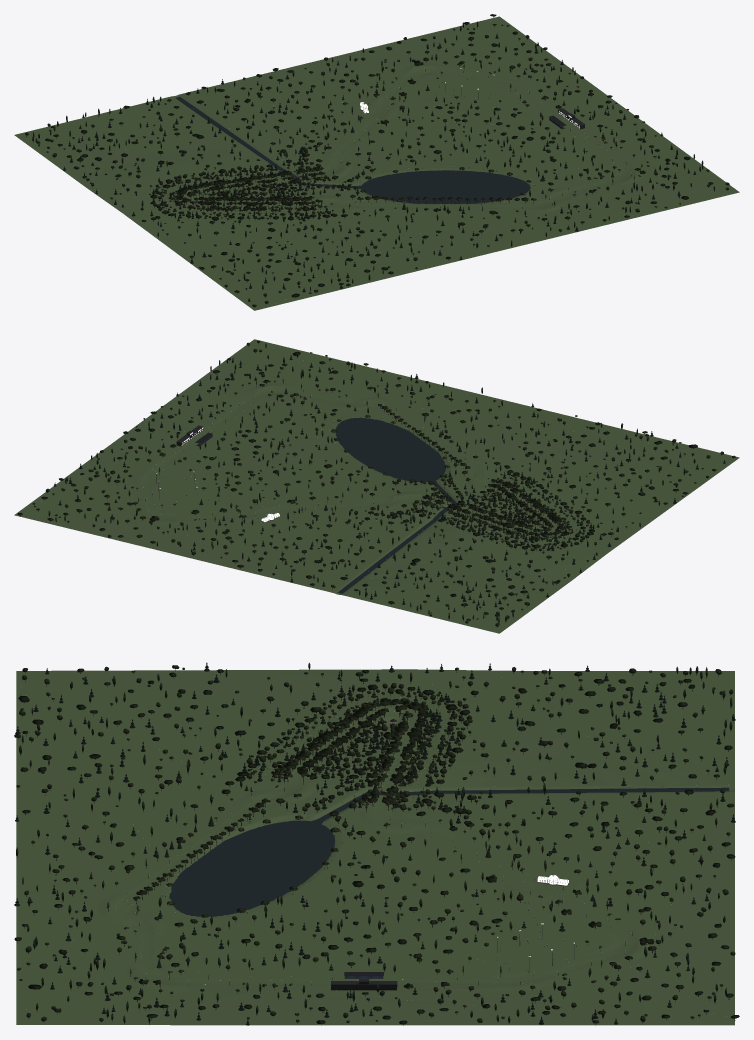
File: park.glb
3 renders of one model, top to bottom at view 1: azimuth 30°, elevation 25°; view 2: azimuth 150°, elevation 25°; view 3: azimuth 270°, elevation 25°, orthographic. The views are drawn at different scales.
Visible parts, largest first — view 1: ground_-2_-2, ground_-2_3, ground_-5_2, ground_-4_2, ground_-2_0, water, ground_-1_1, ground_0_1, ground_-3_-1, ground_-5_-2, ground_-3_2, ground_0_-1 (+38 smaller); view 2: ground_-2_-2, ground_-2_3, ground_-5_2, ground_-4_2, ground_-2_0, water, ground_-1_1, ground_0_1, ground_-3_-1, ground_-5_-2, ground_-3_2, ground_0_-1 (+38 smaller); view 3: ground_-2_-2, ground_-2_3, ground_-5_2, ground_-4_2, ground_-2_0, water, ground_-1_1, ground_0_1, ground_-3_-1, ground_-5_-2, ground_-3_2, ground_-3_0 (+56 smaller).
Part boxes in pixels (bbox=[...]): ground_-2_-2: bbox=[182, 16, 498, 102]; ground_-2_3: bbox=[258, 192, 737, 309]; ground_-5_2: bbox=[212, 211, 349, 310]; ground_-4_2: bbox=[255, 208, 470, 310]; ground_-2_0: bbox=[361, 99, 493, 168]; water: bbox=[175, 97, 530, 203]; ground_-1_1: bbox=[490, 95, 622, 172]; ground_0_1: bbox=[500, 17, 738, 191]; ground_-3_-1: bbox=[198, 100, 358, 146]; ground_-5_-2: bbox=[15, 96, 176, 152]; ground_-3_2: bbox=[256, 203, 531, 310]; ground_0_-1: bbox=[450, 16, 585, 120]; ground_-2_-2: bbox=[15, 515, 332, 592]; ground_-2_3: bbox=[255, 339, 737, 457]; ground_-5_2: bbox=[493, 457, 739, 520]; ground_-4_2: bbox=[423, 428, 737, 470]; ground_-2_0: bbox=[185, 452, 363, 510]; water: bbox=[335, 417, 456, 593]; ground_-1_1: bbox=[161, 397, 333, 476]; ground_0_1: bbox=[15, 340, 253, 514]; ground_-3_-1: bbox=[266, 510, 400, 583]; ground_-5_-2: bbox=[343, 574, 499, 633]; ground_-3_2: bbox=[400, 405, 738, 464]; ground_0_-1: bbox=[14, 433, 182, 515]; ground_-2_-2: bbox=[585, 792, 734, 1024]; ground_-2_3: bbox=[16, 672, 98, 1024]; ground_-5_2: bbox=[17, 671, 344, 794]; ground_-4_2: bbox=[16, 671, 242, 865]; ground_-2_0: bbox=[296, 863, 512, 961]; water: bbox=[169, 787, 729, 916]; ground_-1_1: bbox=[189, 905, 487, 984]; ground_0_1: bbox=[19, 984, 733, 1025]; ground_-3_-1: bbox=[462, 793, 702, 878]; ground_-5_-2: bbox=[577, 671, 734, 784]; ground_-3_2: bbox=[16, 671, 233, 895]; ground_-3_0: bbox=[328, 794, 548, 869].
Bounding box in the file's own units: 1227 × 28.69 × 1057.
